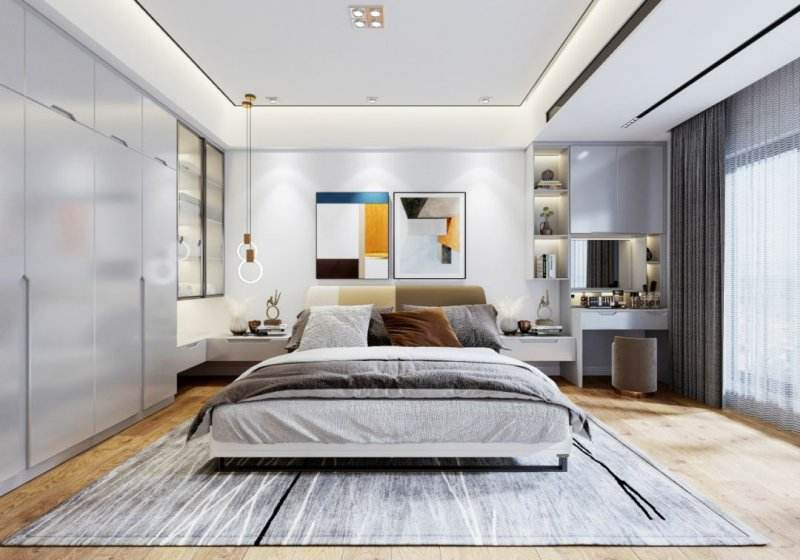床: (207, 346, 576, 478)
枕头: (293, 301, 506, 351)
灯: (235, 95, 262, 288), (347, 6, 388, 34), (477, 95, 495, 108), (365, 95, 382, 105)
